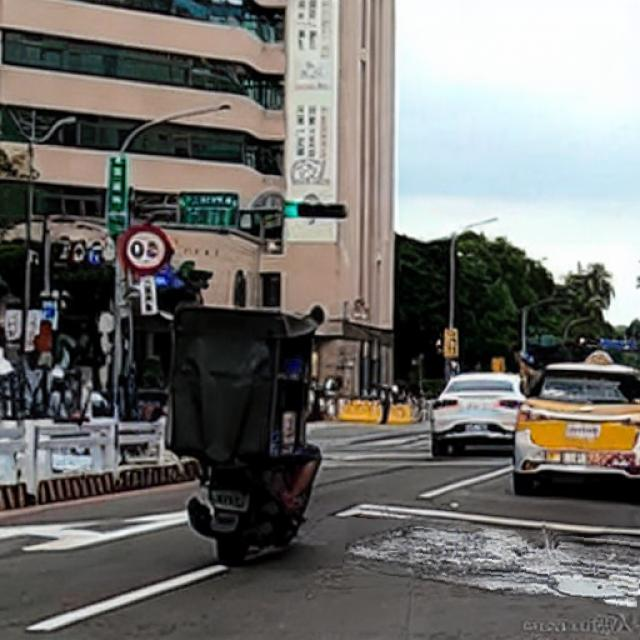puddle: (345, 524, 640, 604)
